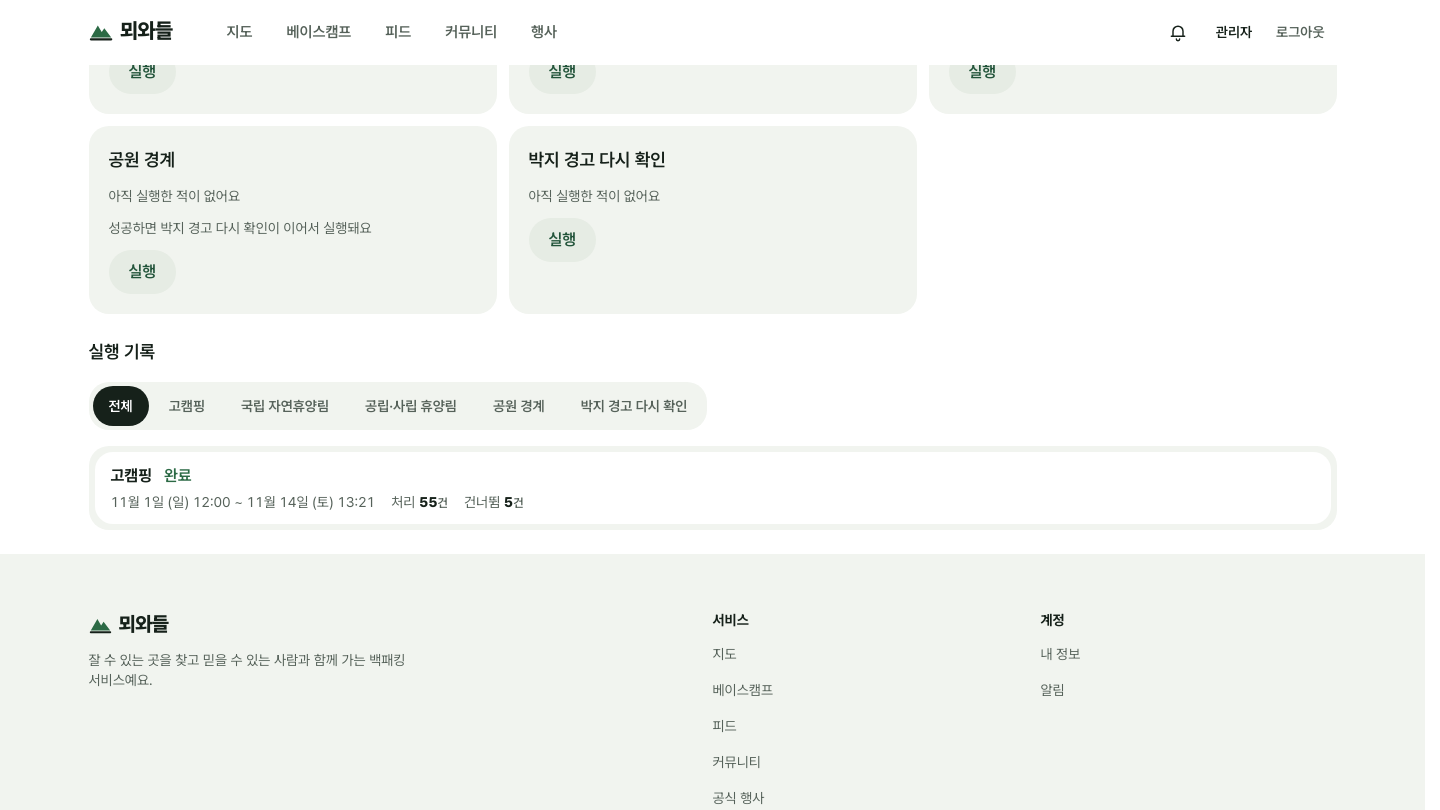
Test: 관리자 데이터 불러오기 › 실행 기록의 작업 종류를 고르면 그 종류만 다시 요청하고, 전체로 돌아가면 조건이 빠진다
(page scrolled)
Click the button "국립 자연휴양림": [285, 406] box left=225, top=386, right=345, bottom=426
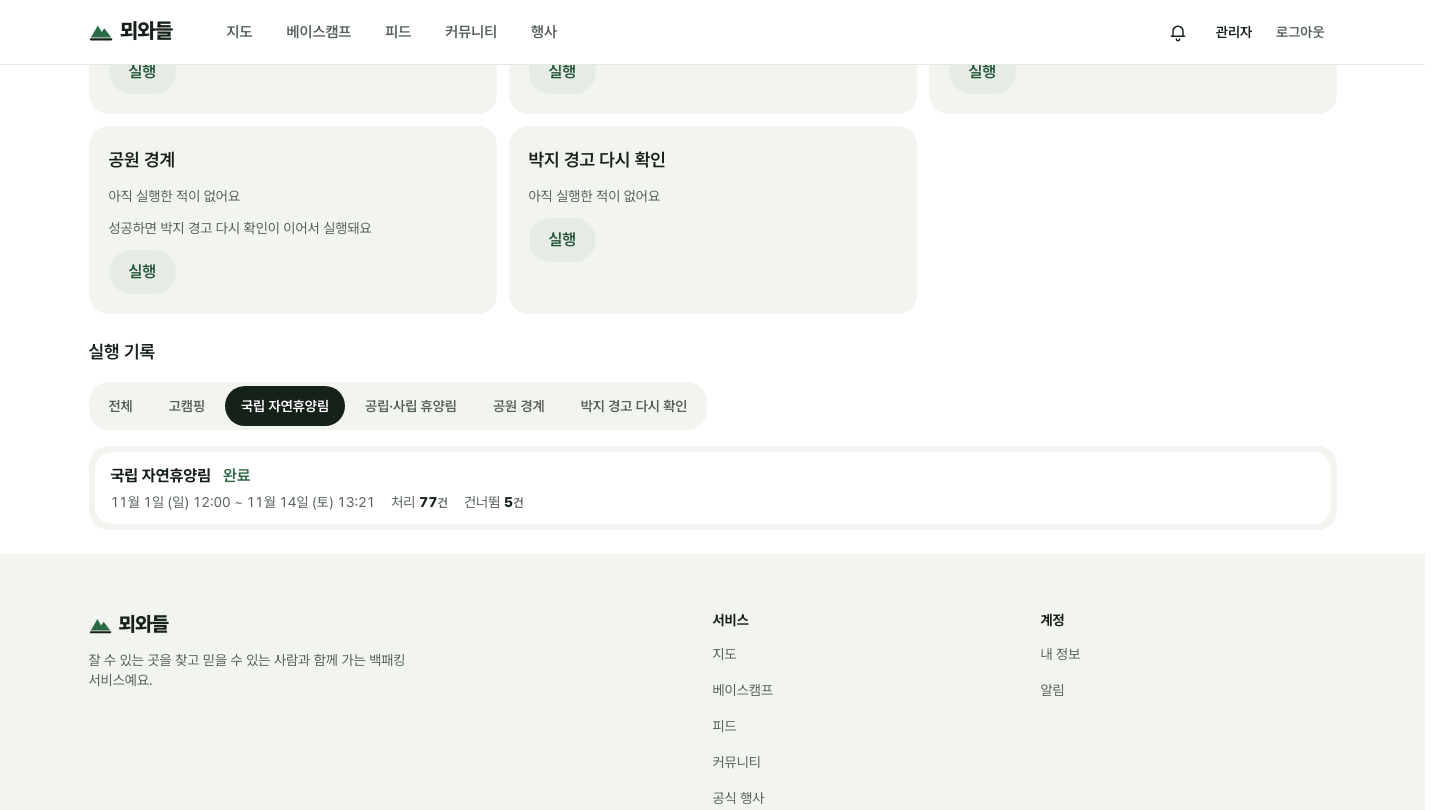
expect the list item that starts with "국립 자연휴양림" shows "77건": met, box left=94, top=452, right=1330, bottom=524
Click the button "전체": [121, 406] box left=92, top=386, right=149, bottom=426
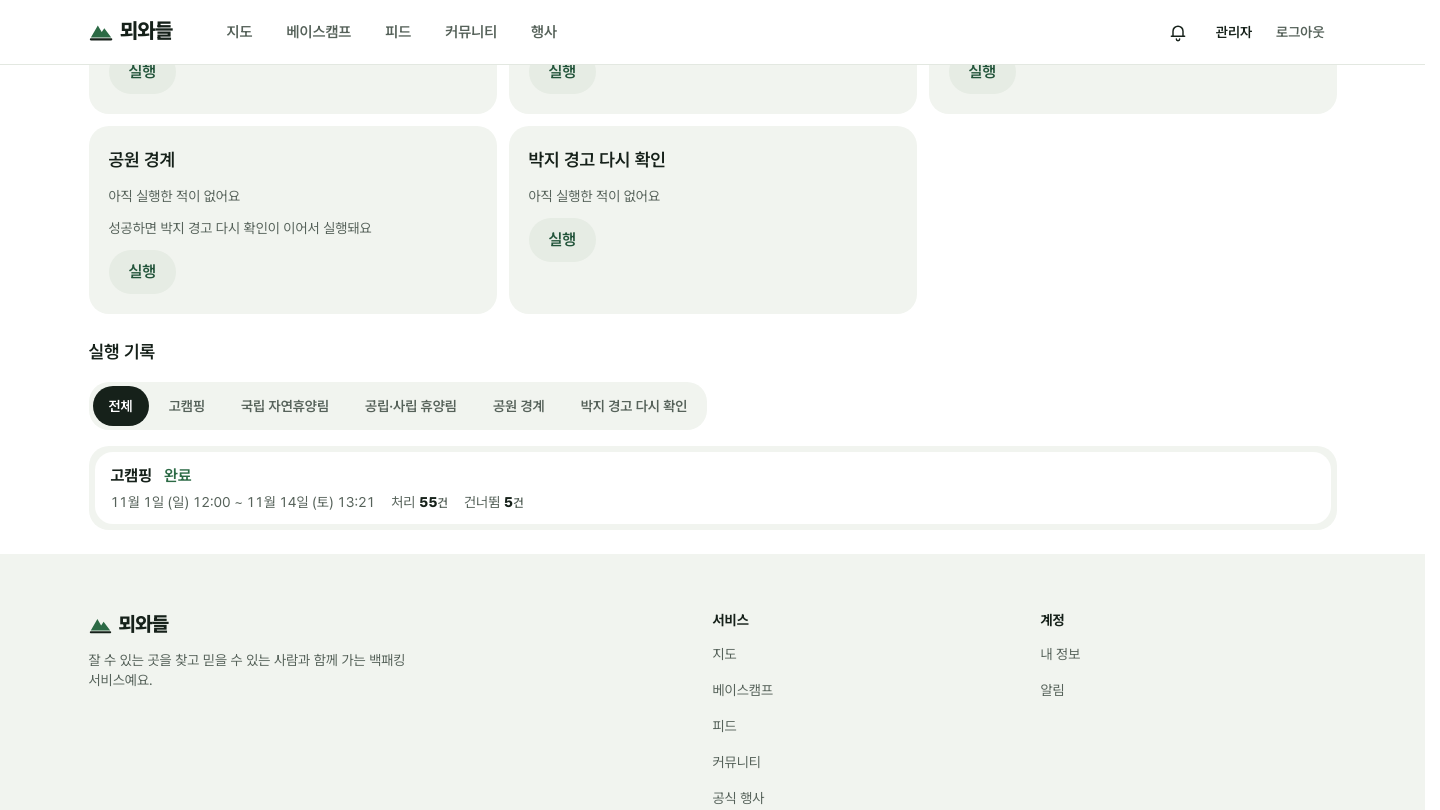
expect the list item "고캠핑 완료 11월 1일 (일) 12:00 ~ 11월 14일 (토) 13:21 처리 55건 건너뜀 5건" is shown: met, box left=94, top=452, right=1330, bottom=524
